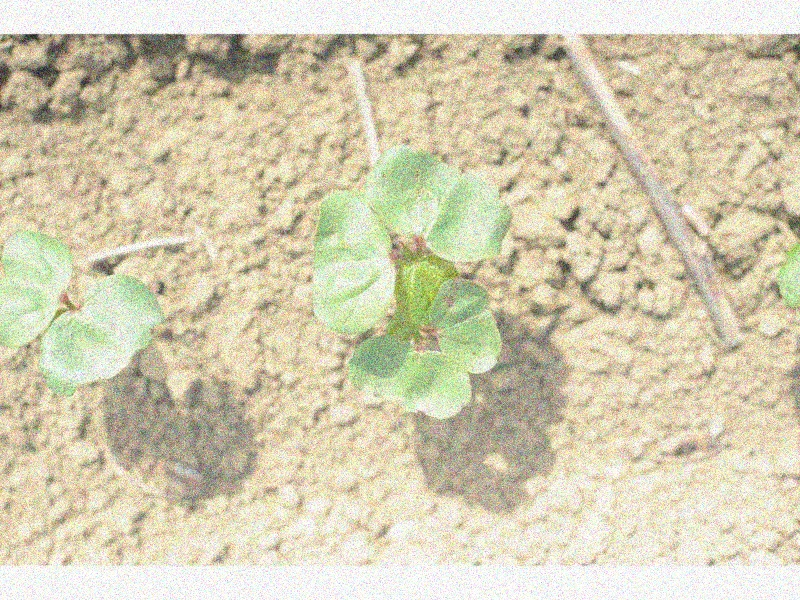cotton: (309, 146, 515, 423), (0, 228, 163, 400)
